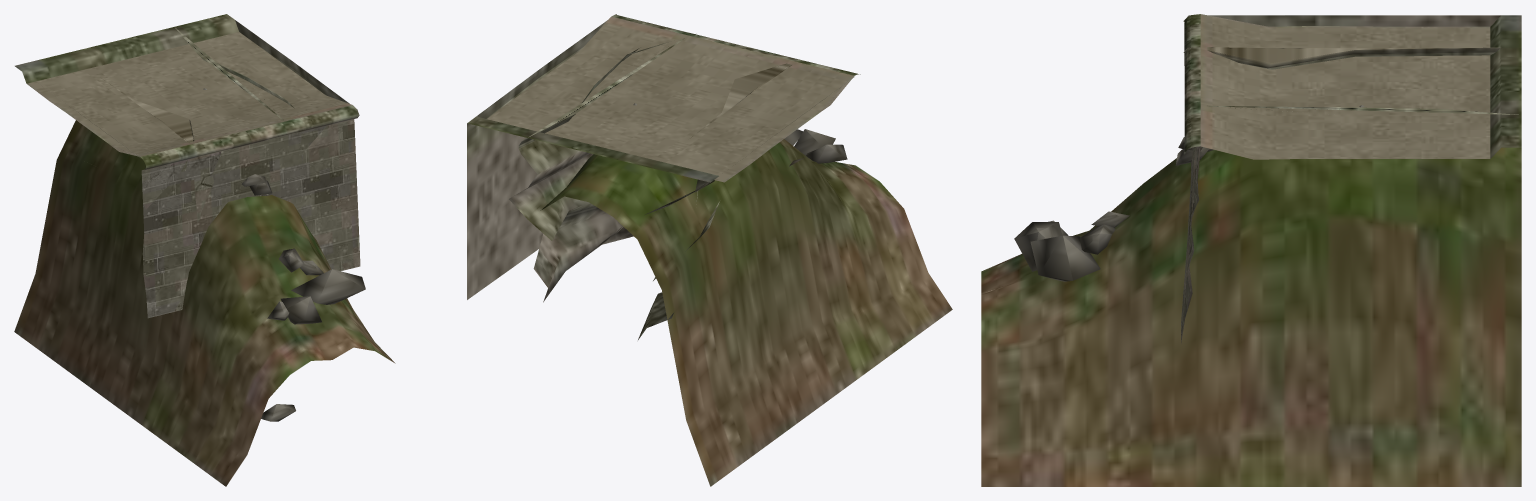
Rendered from starfort_bastion_gorge_live.glb.
3 renders of one model, left to right at view 1: azimuth 30°, elevation 25°; view 2: azimuth 150°, elevation 25°; view 3: azimuth 270°, elevation 25°, orthographic. The views are drawn at different scales.
Visible parts, largest first — view 1: breached, intact, cracked, endcap_b; view 2: breached, intact, endcap_b, cracked; view 3: breached, intact, cracked, endcap_a.
Boxes of the visible parts, x1,y1,x2,y2 form: breached: [14, 14, 395, 486]; intact: [15, 14, 360, 317]; cracked: [15, 15, 360, 421]; endcap_b: [235, 20, 359, 115]; breached: [470, 28, 952, 486]; intact: [467, 14, 857, 182]; endcap_b: [467, 14, 616, 299]; cracked: [470, 15, 856, 181]; breached: [981, 15, 1521, 486]; intact: [1181, 14, 1521, 324]; cracked: [1181, 14, 1521, 342]; endcap_a: [1183, 15, 1500, 26].
Size of what is drawn, in the model's own units: 4.05 by 4.87 by 6.9.
1 material, 1 textured.
